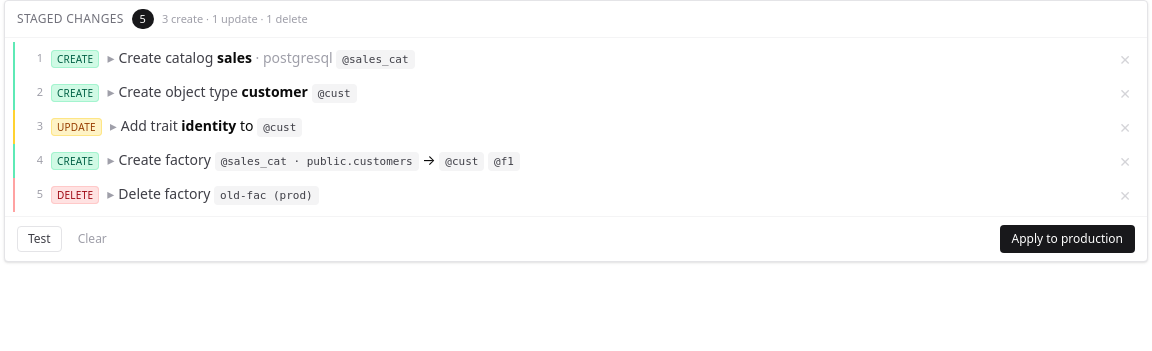
Test: ChangesetPanel › expands an action into a materialized field form (not JSON), starting collapsed
// expand the first action (create_catalog)
Click the button with test id "toggle-action" that starts with "Create catalog" at (166, 57), box top-left (107, 48), bottom-right (1107, 69)
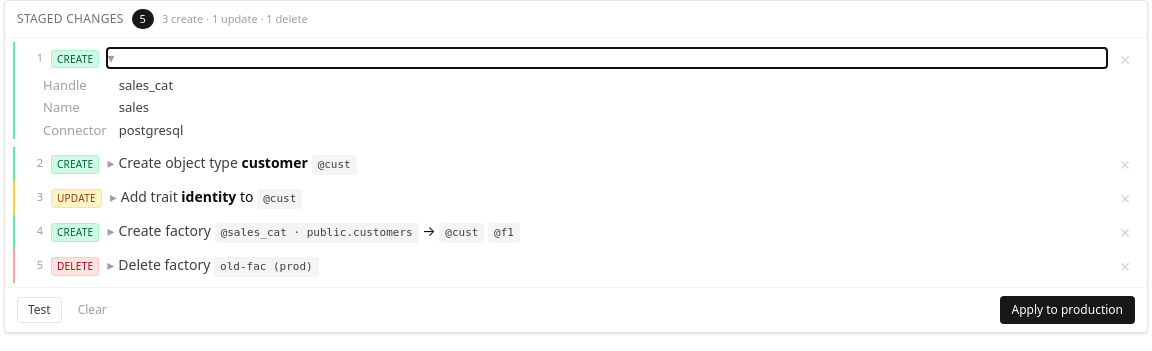
expect the text "Create catalog" is gone: met
